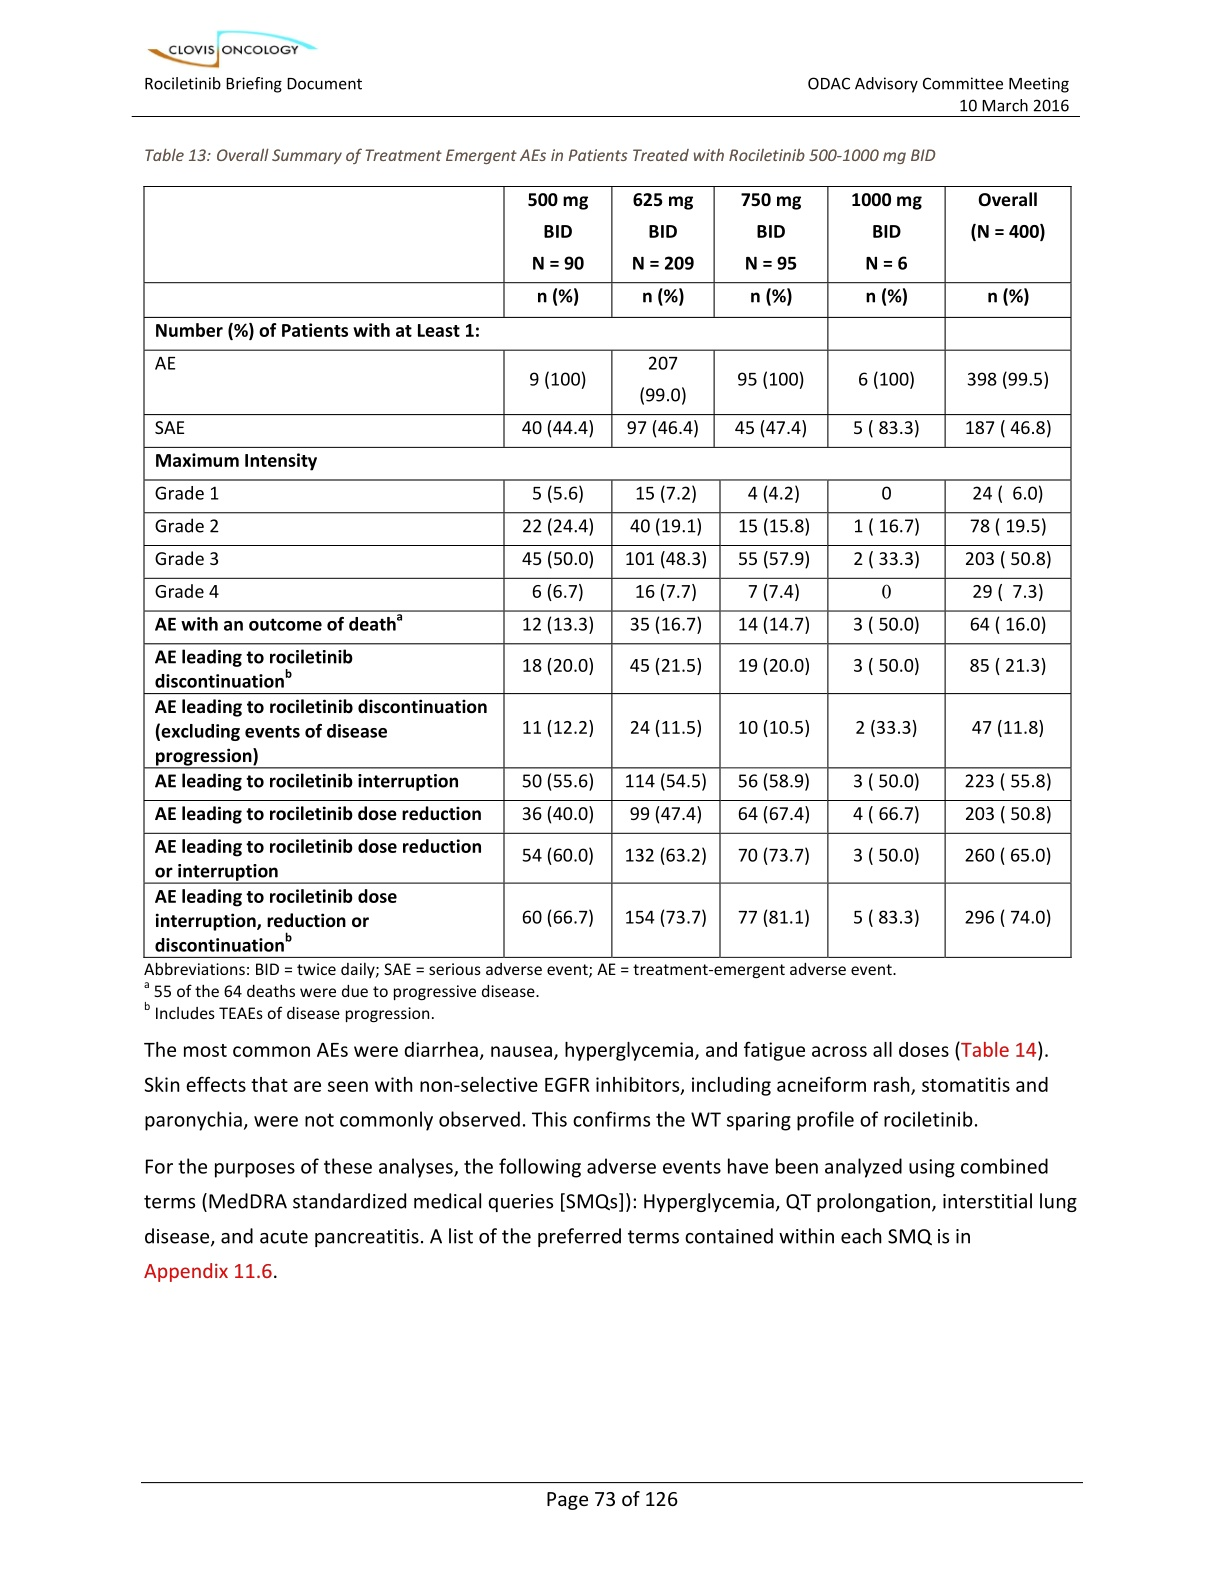merged_cells: (141, 185, 1074, 960)
